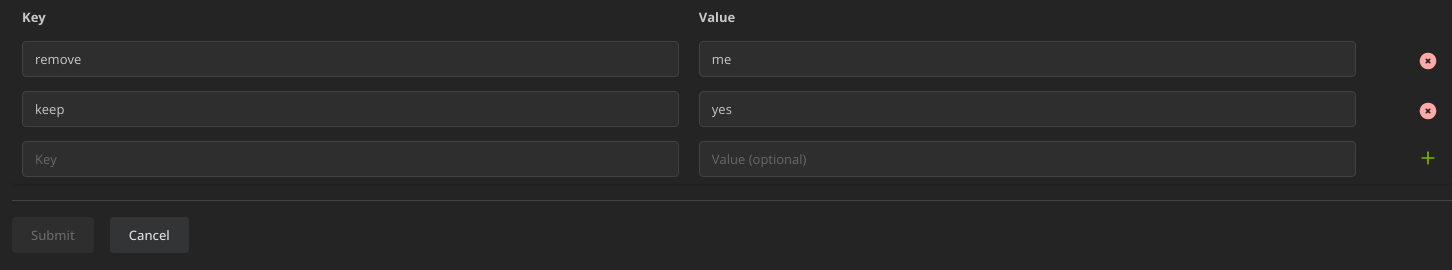
it: TagFormTable › removes a tag when the delete button is clicked
The image size is (1452, 270).
Expected: the 1st field showing "remove" is shown, [22,41,679,77]
Step 1. Click the button titled "Remove remove" → (1428, 61), box [1414,47,1442,75]
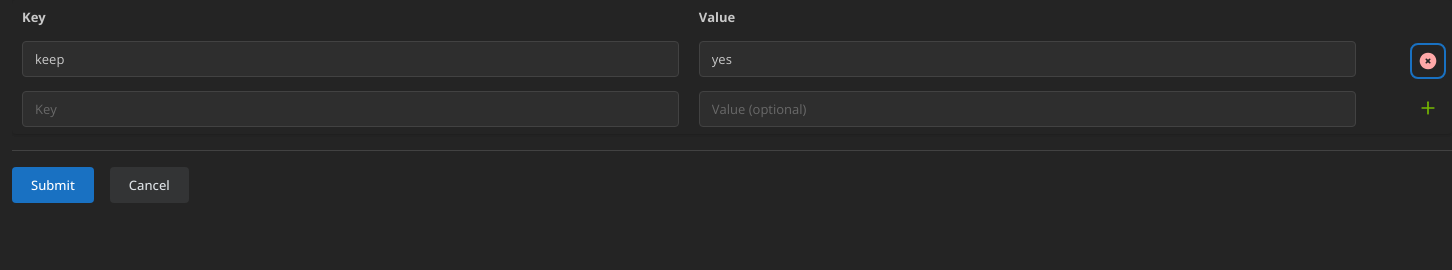
Expected: the field showing "remove" is not shown
Now the button "Submit" is enabled, box [12,167,94,203]
